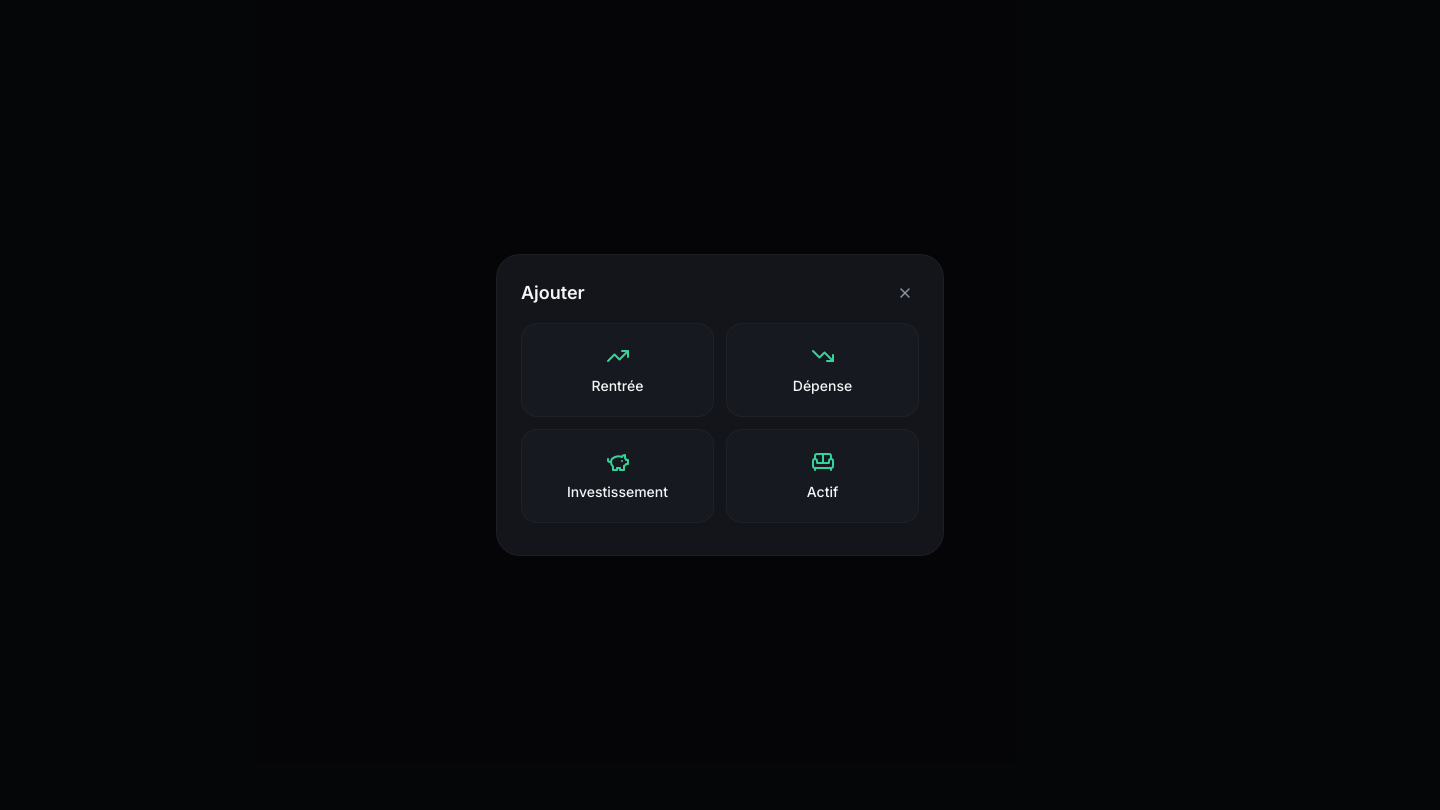
Test: AddMovementSheet › refuse un montant nul
The width and height of the screenshot is (1440, 810).
Click the button "Dépense": (822, 370) x1=726 y1=323 x2=919 y2=417
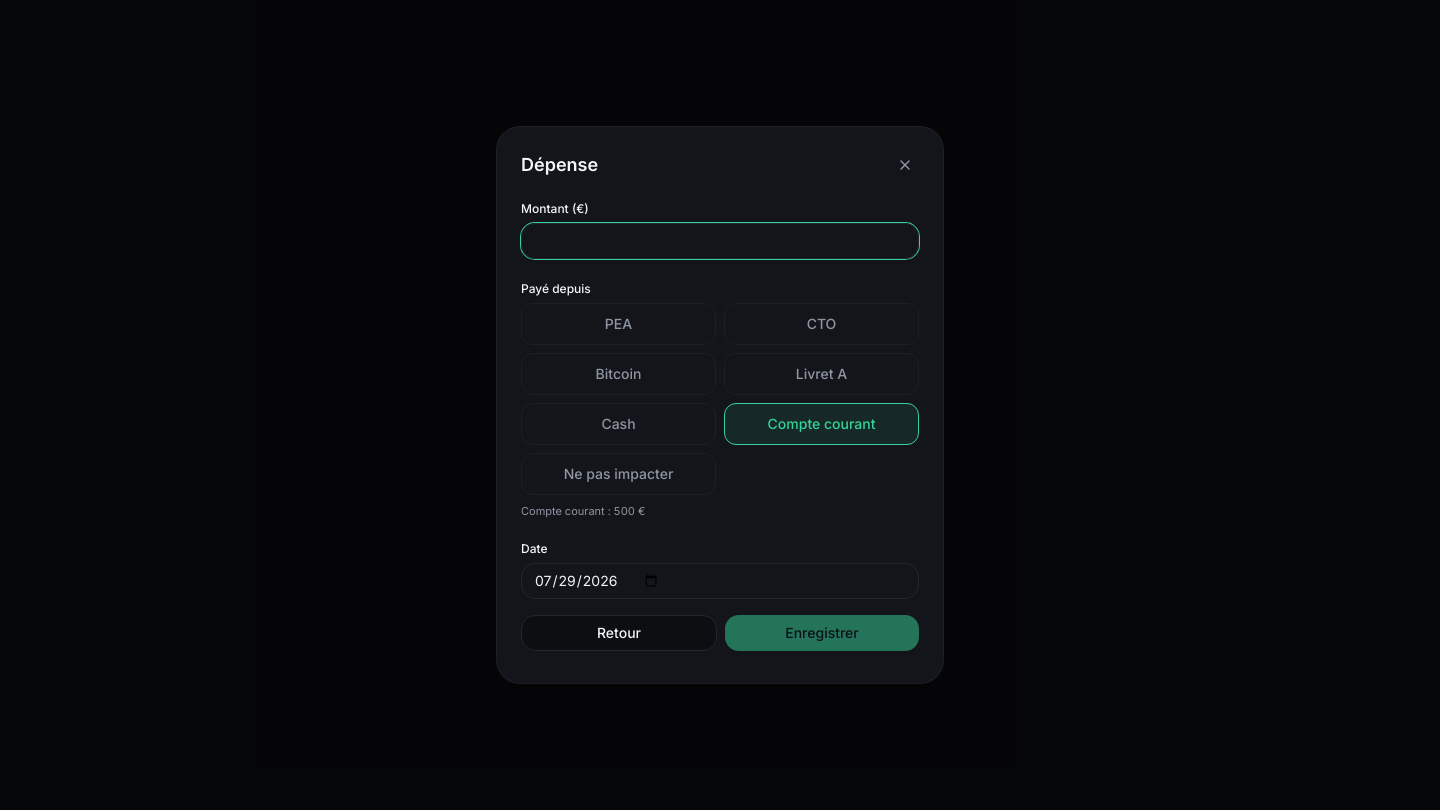
expect the button "Enregistrer" is disabled: met, box x1=725 y1=615 x2=919 y2=651
